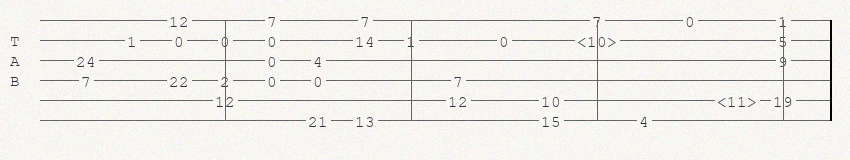0: (174, 33, 188, 47), (220, 33, 234, 47), (267, 73, 281, 87), (267, 33, 281, 47), (267, 53, 281, 67), (313, 73, 327, 87), (499, 33, 513, 47), (685, 13, 699, 27)
1: (127, 33, 141, 47), (406, 33, 420, 47), (778, 13, 792, 27)
10: (541, 93, 565, 107)
12: (169, 13, 193, 27), (215, 93, 239, 107), (448, 93, 472, 107)
13: (355, 113, 379, 127)
14: (355, 33, 379, 47)
15: (541, 113, 565, 127)
19: (773, 93, 797, 107)
2: (220, 73, 234, 87)
21: (308, 113, 332, 127)
22: (169, 73, 193, 87)
24: (76, 53, 100, 67)
4: (313, 53, 327, 67), (639, 113, 653, 127)
5: (778, 33, 792, 47)
7: (81, 73, 95, 87), (267, 13, 281, 27), (360, 13, 374, 27), (453, 73, 467, 87), (592, 13, 606, 27)
9: (778, 53, 792, 67)
harmonic: (577, 33, 621, 48), (717, 93, 761, 108)
